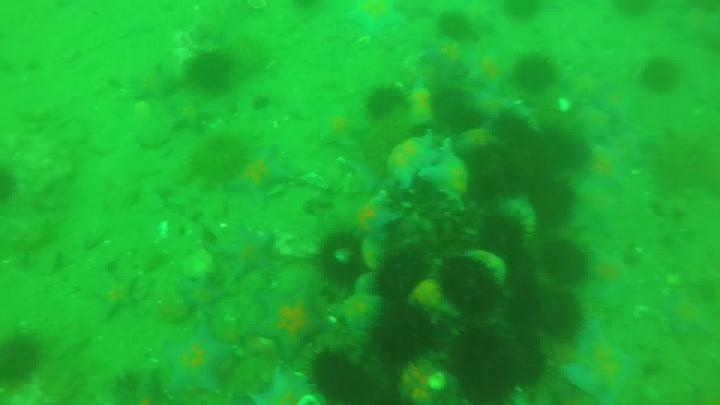echinus: (451, 324, 525, 400), (373, 300, 435, 367), (306, 349, 378, 405), (443, 259, 510, 319), (379, 245, 435, 312), (316, 232, 371, 290), (429, 90, 487, 137), (477, 148, 532, 196), (530, 174, 579, 226), (478, 212, 531, 258), (1, 336, 42, 392), (505, 258, 538, 319), (539, 133, 589, 173), (543, 294, 585, 341), (542, 240, 590, 281), (187, 52, 230, 93), (488, 118, 537, 151), (370, 82, 411, 120), (512, 54, 552, 92), (520, 335, 545, 392), (638, 57, 679, 90), (439, 12, 473, 40), (502, 1, 543, 21), (615, 1, 645, 13)
scallop: (429, 373, 447, 391), (558, 98, 573, 115), (356, 37, 373, 47), (247, 2, 268, 10)
starfish: (250, 279, 342, 365), (561, 321, 635, 405), (160, 323, 236, 397), (221, 144, 292, 207), (421, 139, 470, 216), (213, 225, 277, 280), (385, 137, 445, 190), (668, 284, 720, 343), (248, 366, 324, 405), (597, 246, 643, 310), (602, 121, 659, 165), (344, 2, 404, 42), (176, 273, 227, 317), (129, 63, 181, 101), (168, 94, 220, 132), (589, 143, 631, 190), (467, 48, 506, 97), (97, 272, 139, 317), (346, 152, 387, 195), (372, 209, 407, 253), (601, 84, 642, 119)
